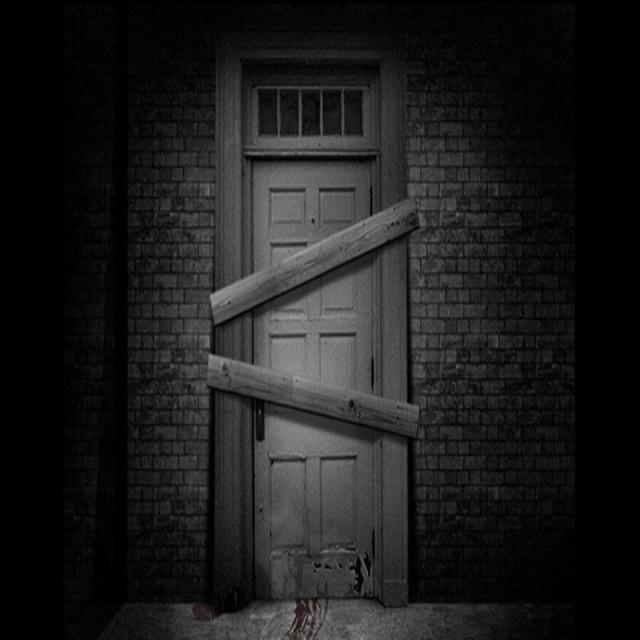close: (247, 158, 379, 588)
